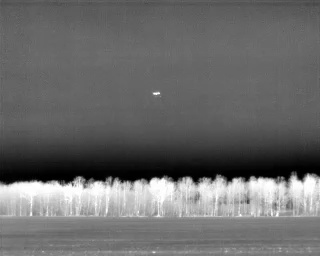DRONE: (149, 88, 165, 101)
